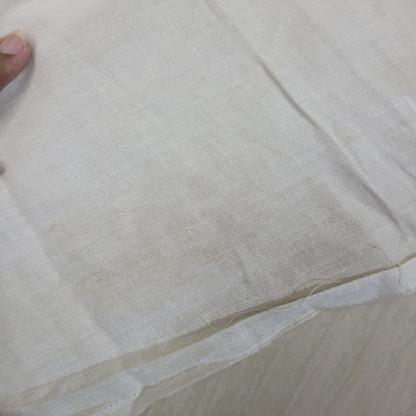spot: (68, 266, 136, 289)
